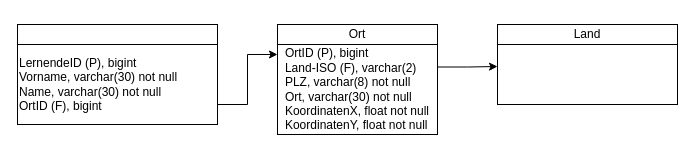
Image size: 695x152. Some labels were removed from this diagram. The centre of each missing label's shape, as x and y in pixels:
"Land-ISO (P), varchar(2) Land, varchar(30) not null" belongs at pixel 587 74.
"Lernende" belongs at pixel 117 34.
